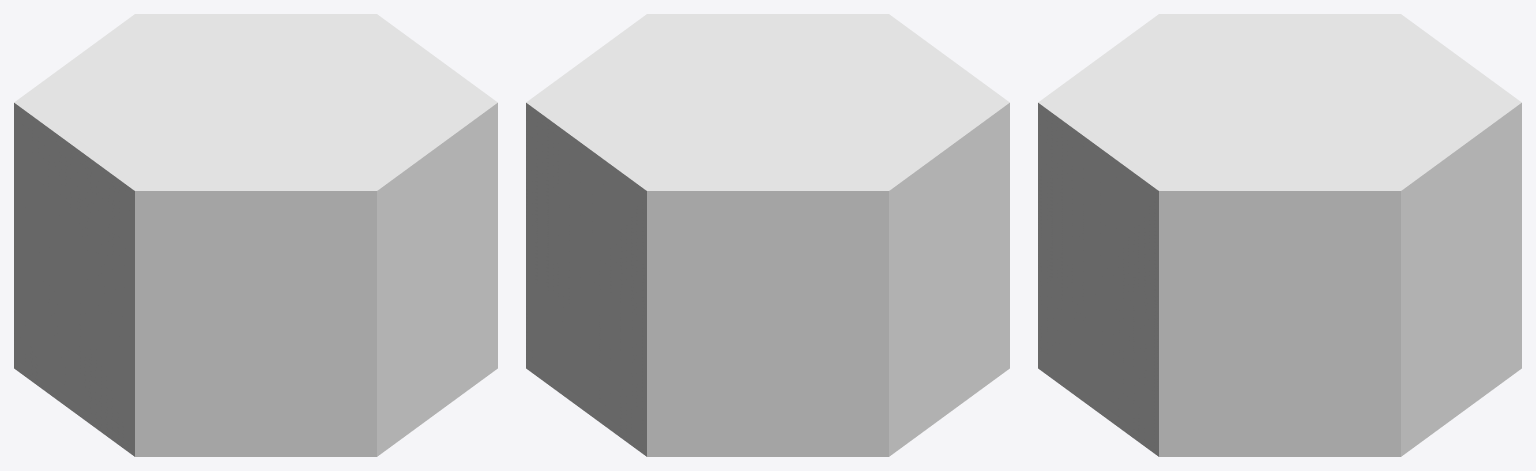
File: flat_snow.glb
The picture shows the model from 3 angles, left to right: view 1: azimuth 30°, elevation 25°; view 2: azimuth 150°, elevation 25°; view 3: azimuth 270°, elevation 25°; orthographic projection.
Parts seen in each view (by area): view 1: water; view 2: water; view 3: water.
Boxes of the visible parts, box(x1,y1,x2,y2) form: water: box(14, 14, 497, 456); water: box(526, 14, 1009, 456); water: box(1038, 14, 1521, 456).
Size of the model in its own units: 1 by 0.7 by 1.15.
1 material, 1 textured.
